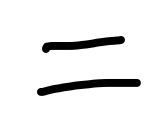eqv: (37, 36, 141, 96)
